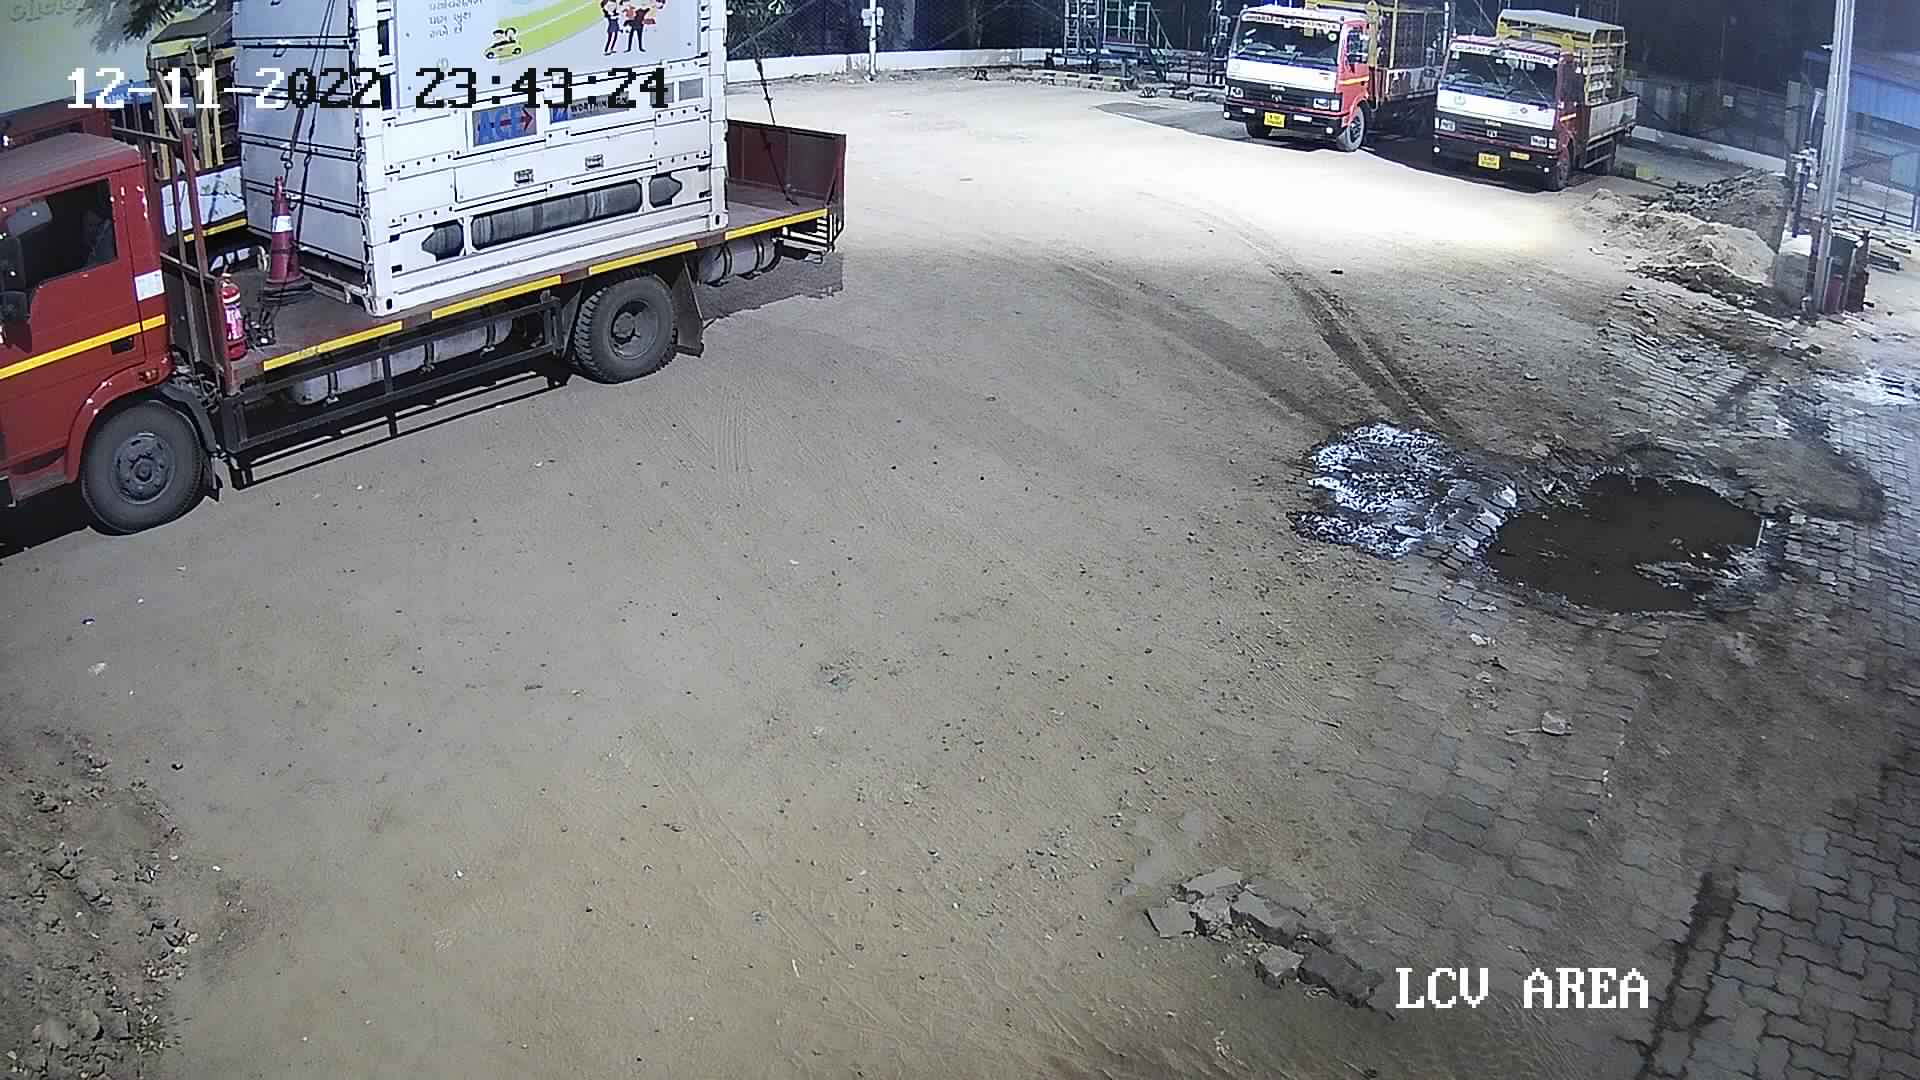HMV: (0, 0, 851, 554), (0, 0, 257, 280), (1199, 0, 1503, 152), (1418, 0, 1654, 194)
